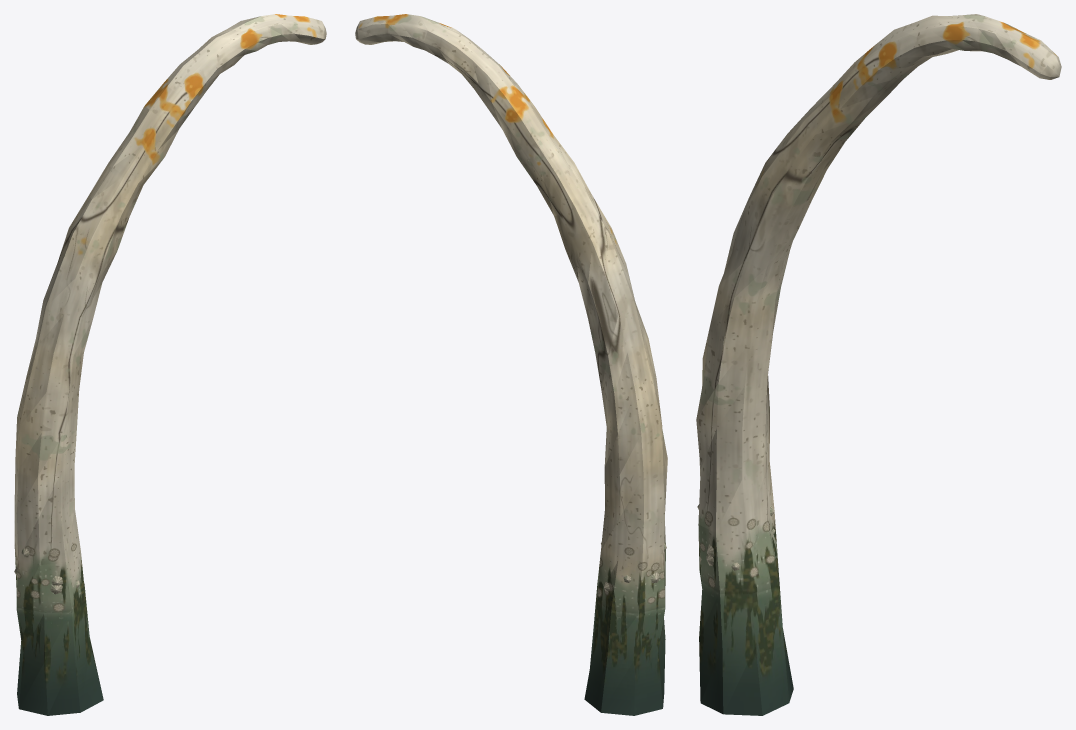
Rendered from rib-a.glb.
3 renders of one model, left to right at view 1: azimuth 30°, elevation 25°; view 2: azimuth 150°, elevation 25°; view 3: azimuth 330°, elevation 25°, orthographic. The views are drawn at different scales.
Parts seen in each view (by area): view 1: rib-a; view 2: rib-a; view 3: rib-a.
Part boxes in pixels (left/top/right/bottom): rib-a: left=14, top=14, right=326, bottom=715; rib-a: left=355, top=14, right=667, bottom=715; rib-a: left=696, top=14, right=1061, bottom=715.
Size of the model in its own units: 7.93 by 15.56 by 1.95.
1 material, 1 textured.
